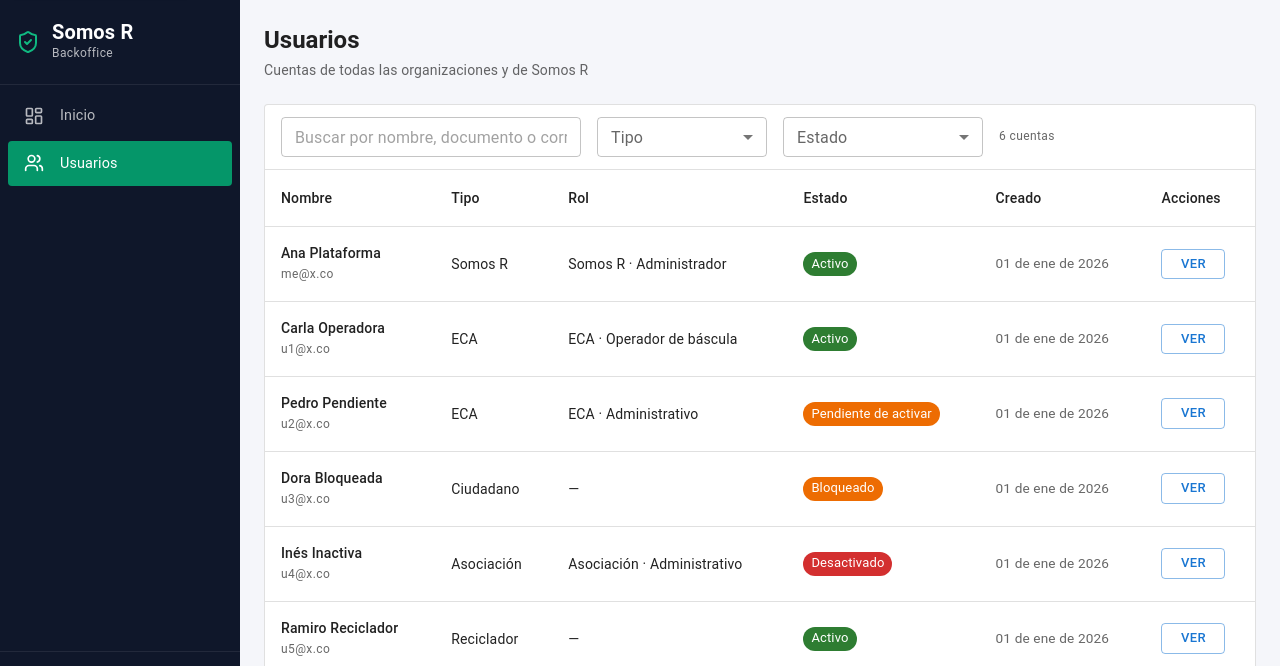
Test: users list › filters by type and by state
expect the text "Carla Operadora" is shown: met, box [281,320,385,336]
Click the 1st dropdown named "Tipo": (682, 137) [597,117,767,157]
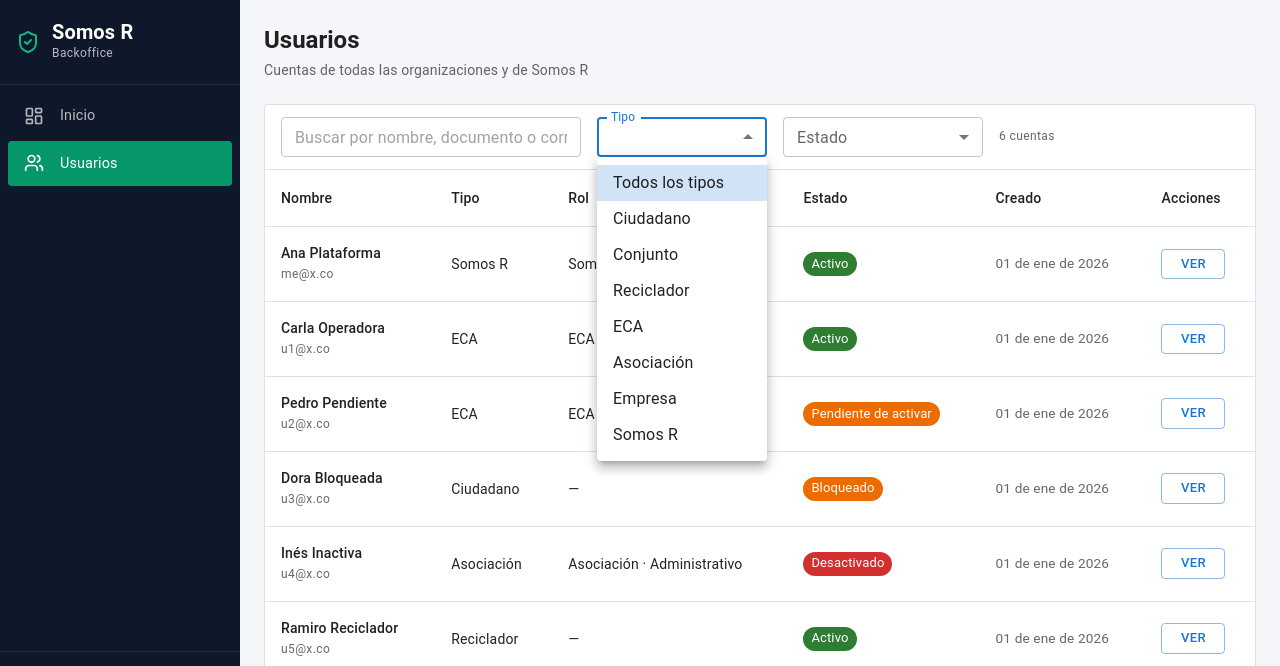
Click the option "ECA": (628, 326) [613,317,643,336]
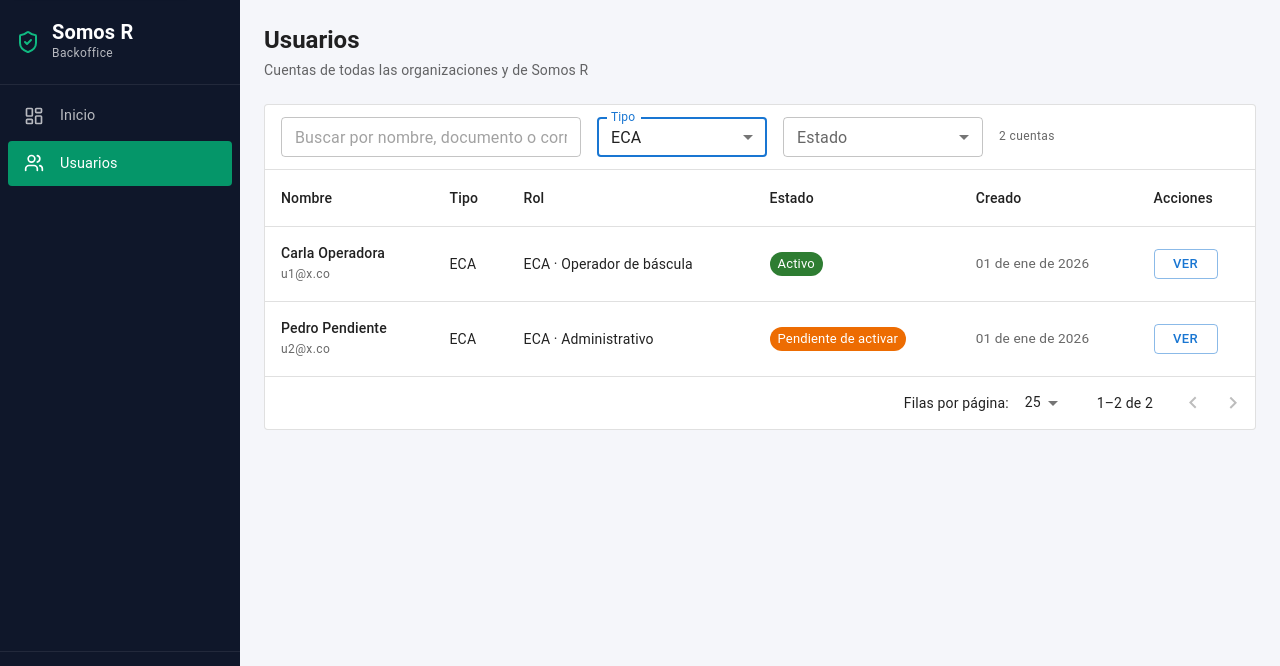
Click the dropdown named "Estado": (883, 137) [783,117,983,157]
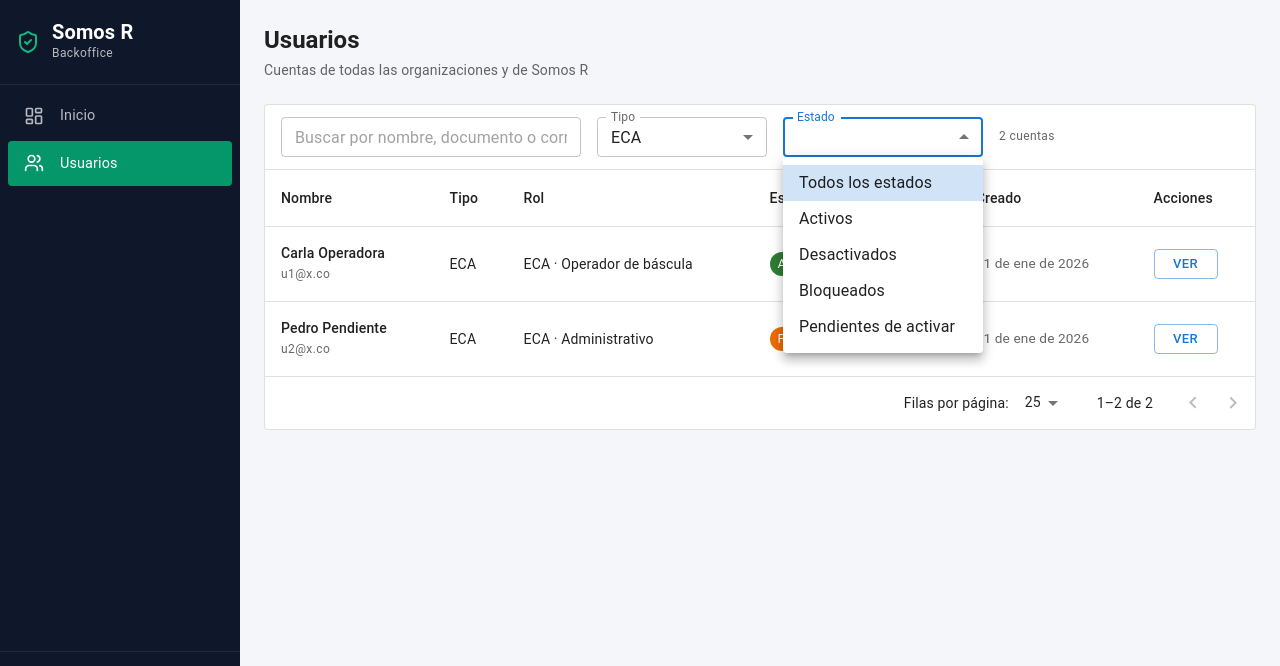
Click the option "Pendientes de activar": (877, 326) [799,317,955,336]
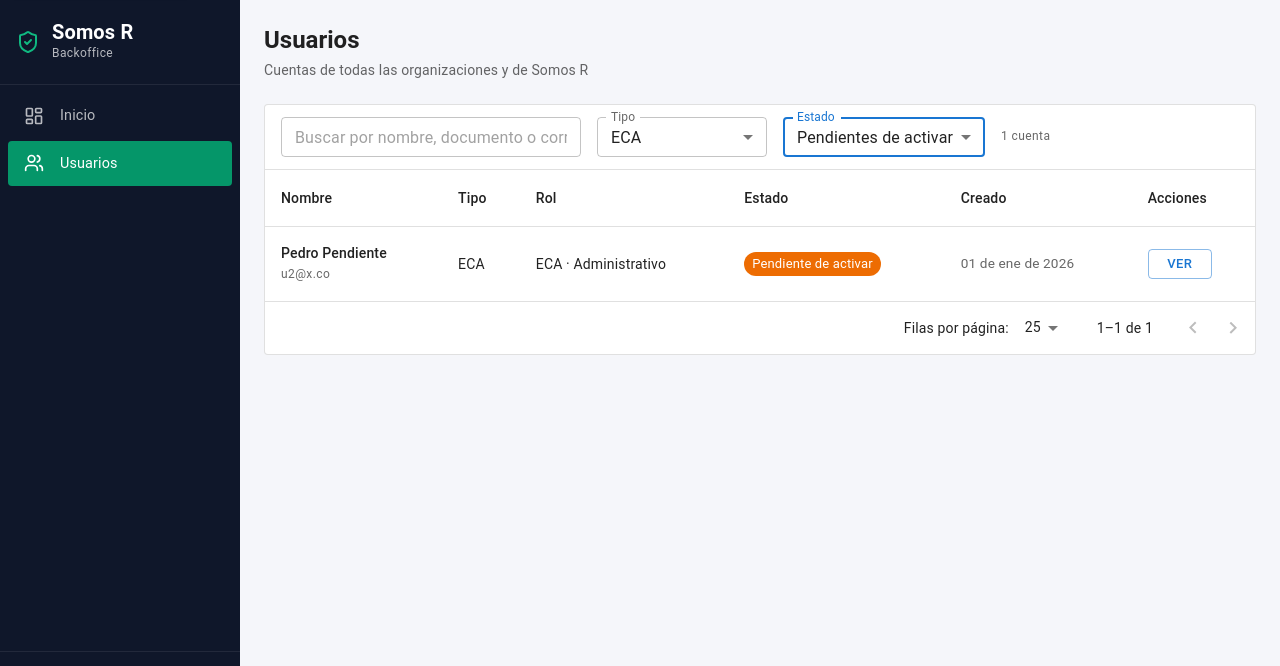
expect the text "Pedro Pendiente" is shown: met, box [281,245,387,261]
expect the text "Carla Operadora" is gone: met
